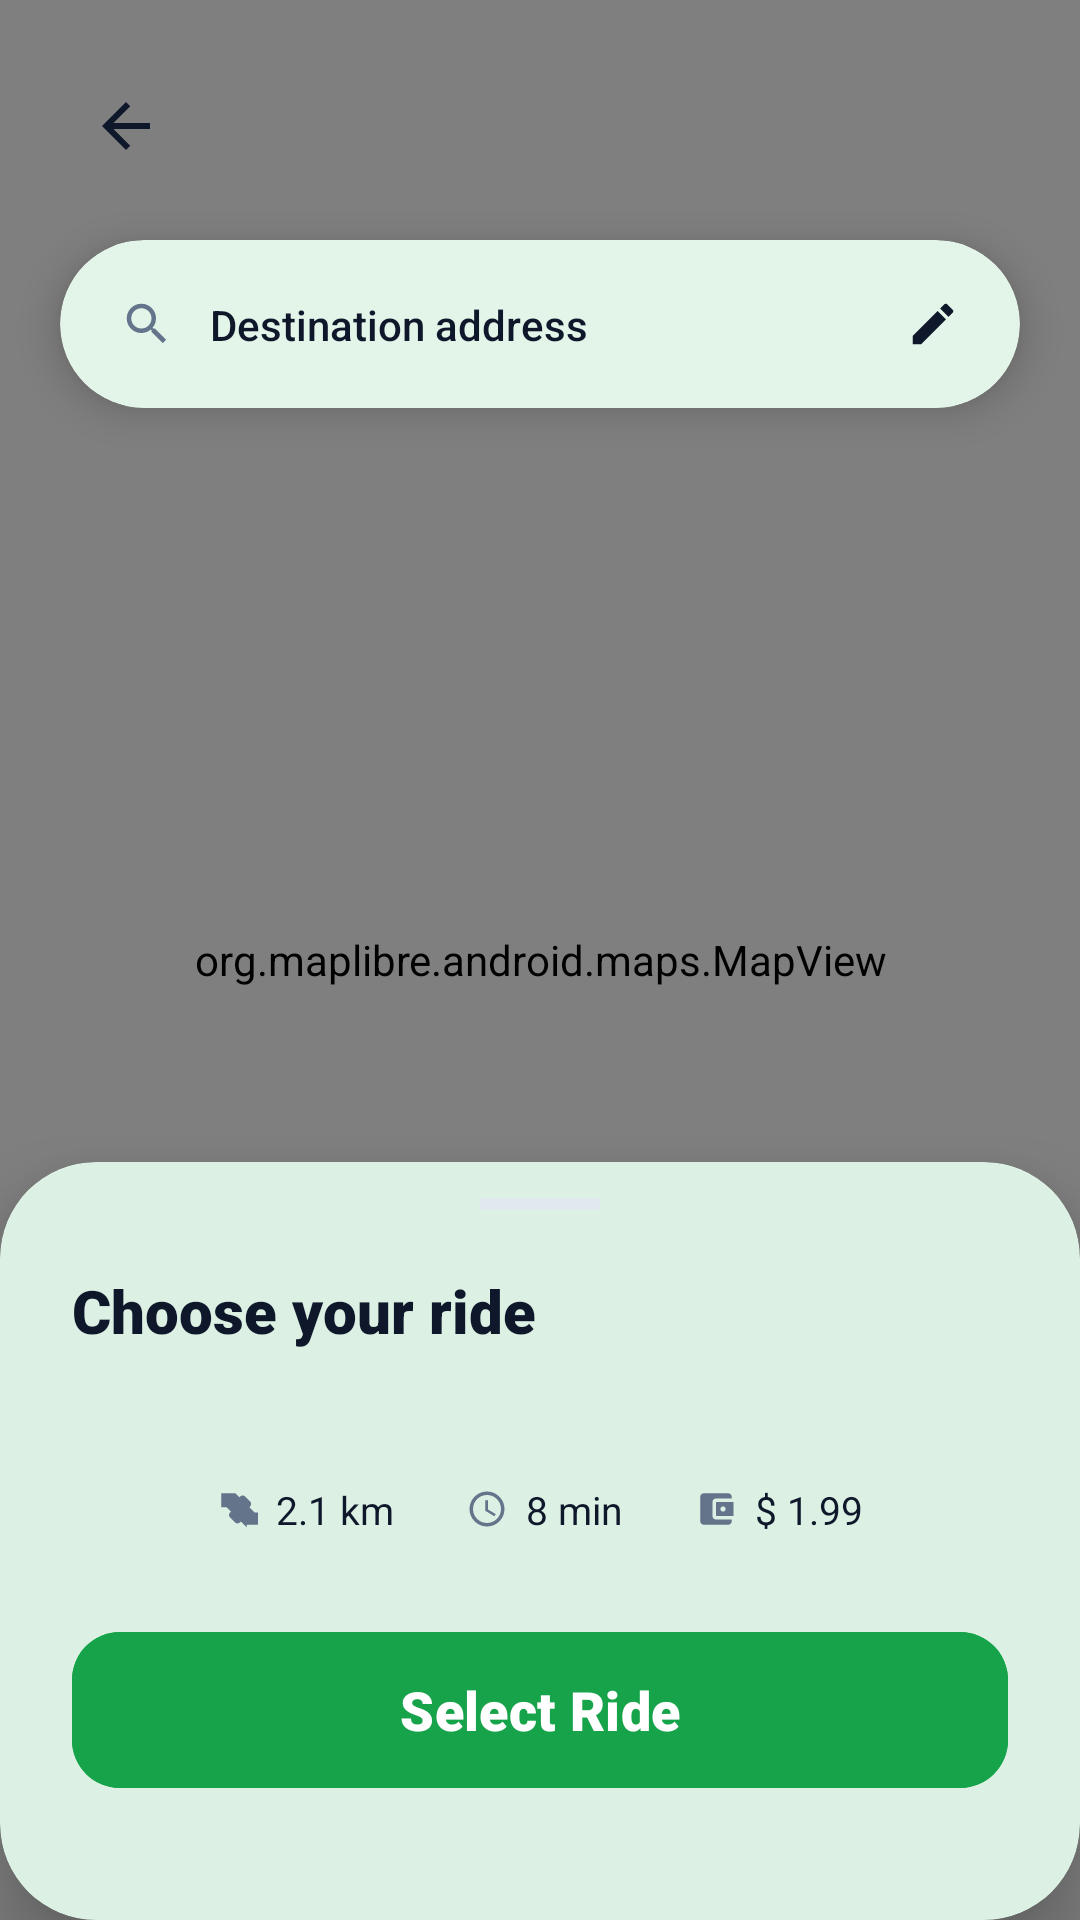

Icon click points for this 1080 × 1920 phone screenshot, format [x,y]:
arrow back: [126,126]
clock: [487,1509]
edit: [933,324]
search: [146,323]
wallet: [717,1509]
